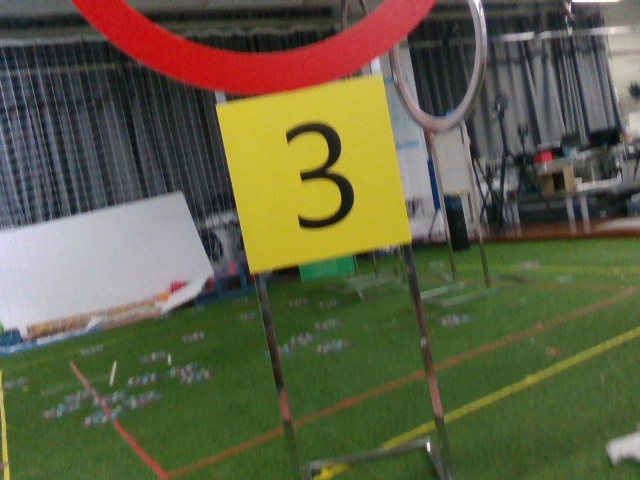target: (232, 98, 401, 252)
